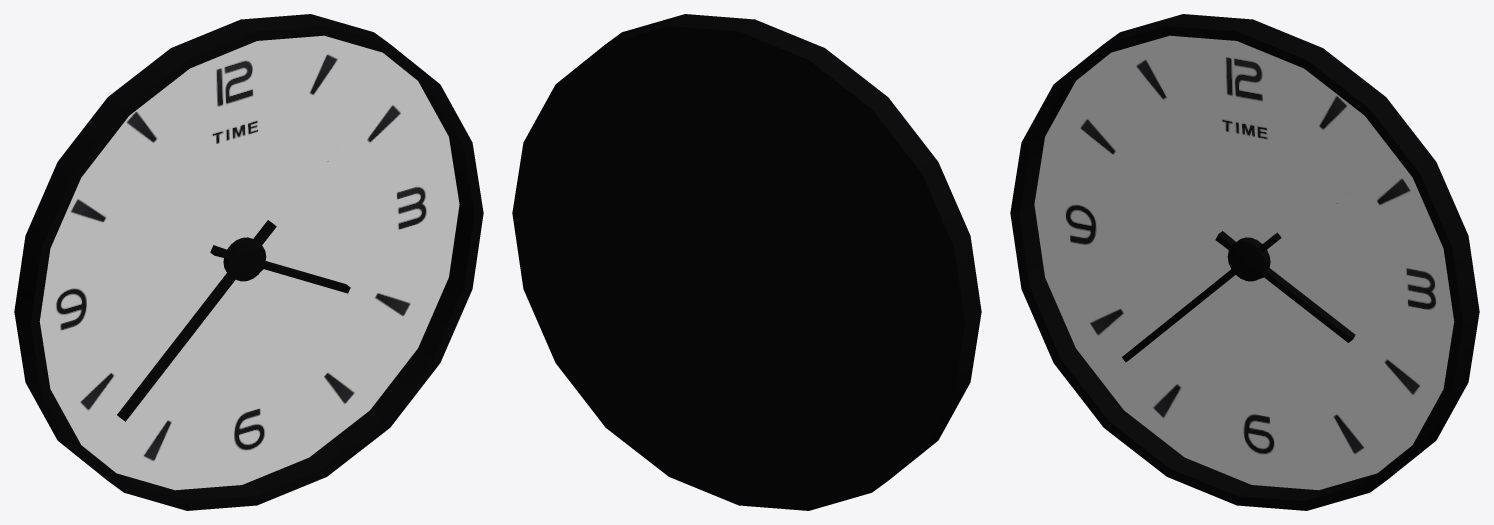
File: RELOGIO_MOD.fbx
3 views of the same model, side by side, from view 1: azimuth 30°, elevation 25°; view 2: azimuth 150°, elevation 25°; view 3: azimuth 330°, elevation 25° (orthographic).
Visible parts, largest first — view 1: pCylinder3; view 2: pCylinder3; view 3: pCylinder3.
Boxes of the visible parts, bbox=[...] form: pCylinder3: bbox=[14, 14, 483, 510]; pCylinder3: bbox=[512, 14, 981, 510]; pCylinder3: bbox=[1010, 14, 1479, 510].
Size of the model in its own units: 70 by 70 by 4.35.
